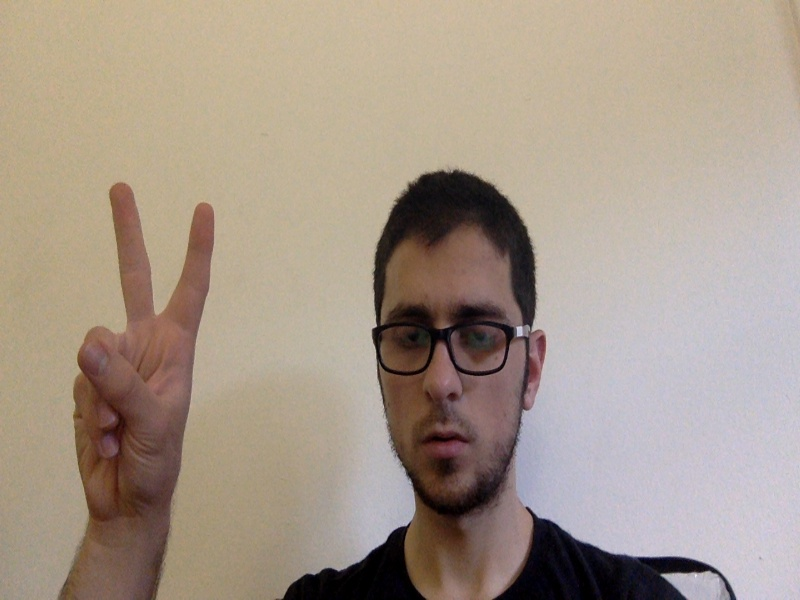2-hand: (73, 182, 213, 518)
